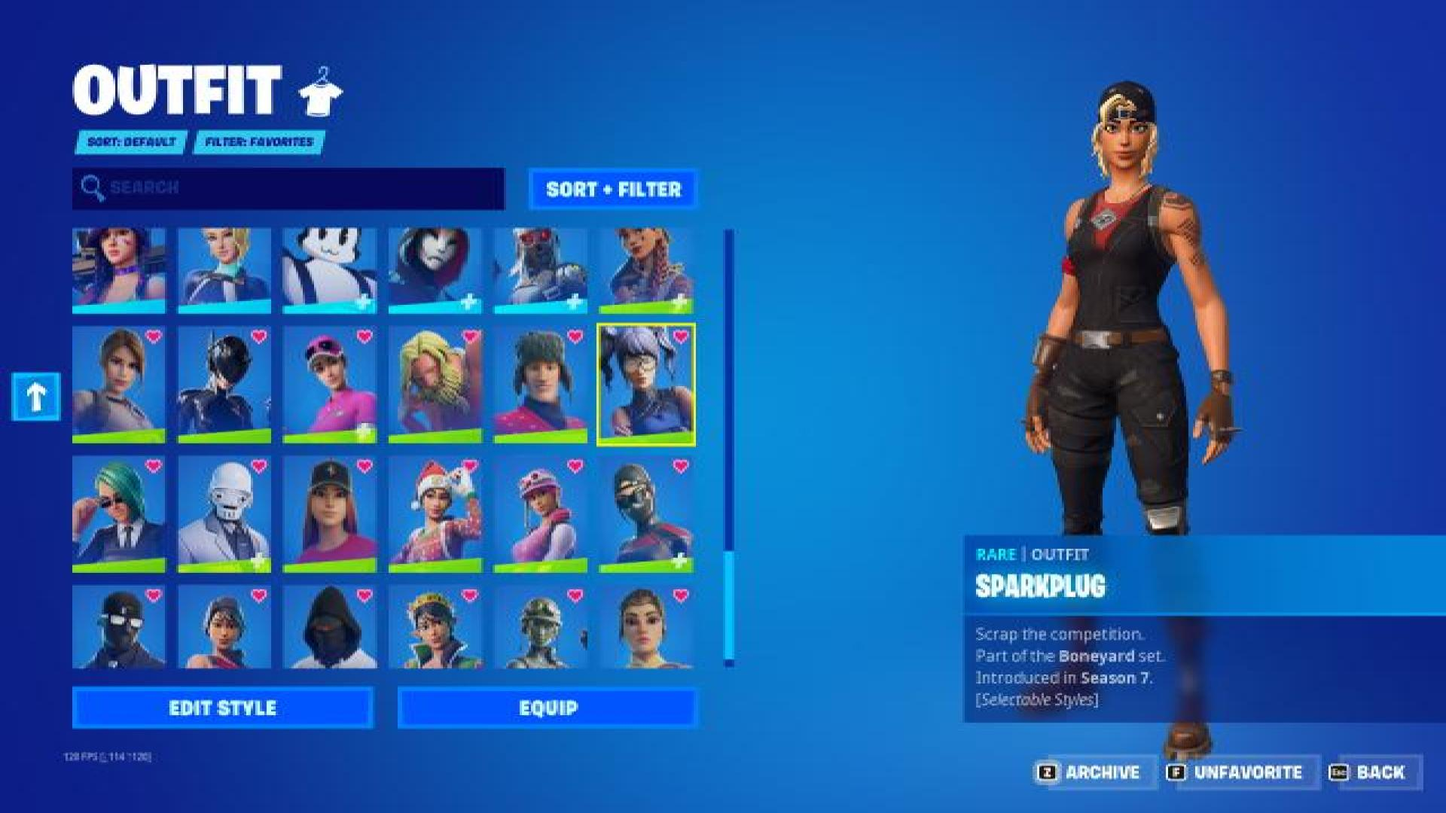player: (972, 80, 1356, 751)
